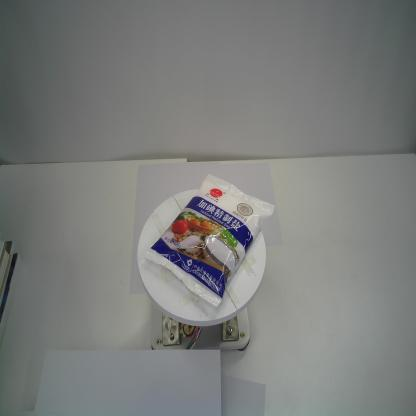Seasoner: (140, 172, 276, 309)
